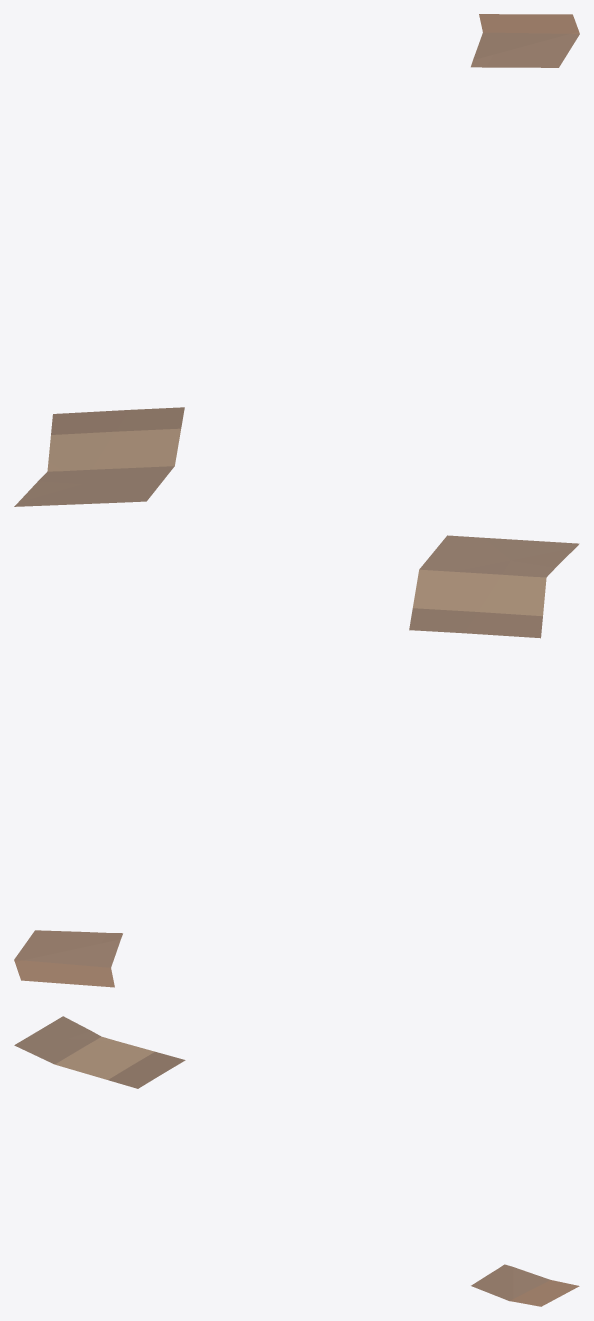
File: farm_3_-5_soil.glb
3 renders of one model, top to bottom at view 1: azimuth 30°, elevation 25°; view 2: azimuth 210°, elevation 25°; view 3: azimuth 270°, elevation 25°, orthographic. The views are drawn at different scales.
Parts seen in each view (by area): view 1: geometry_0; view 2: geometry_0; view 3: geometry_0.
Part boxes in pixels (x1=…): geometry_0: x1=14, y1=14, x2=579, y2=506; geometry_0: x1=14, y1=535, x2=579, y2=987; geometry_0: x1=14, y1=1016, x2=579, y2=1306.
Size of the model in its own units: 396 by 12.35 by 305.
